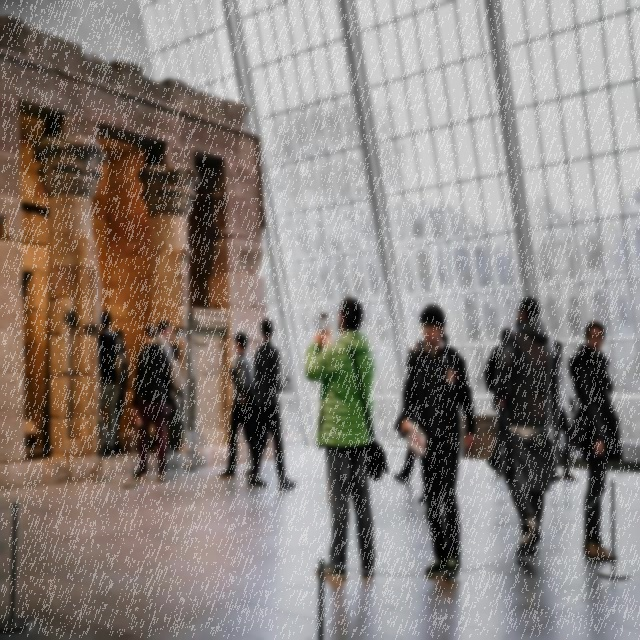pessoa: (302, 292, 388, 582), (400, 303, 477, 581), (490, 293, 560, 561), (564, 321, 624, 561), (398, 314, 454, 511), (247, 318, 297, 492), (129, 322, 174, 484), (218, 331, 260, 478), (483, 326, 514, 477), (149, 320, 182, 454), (550, 340, 580, 482), (98, 310, 120, 456), (110, 330, 130, 453), (322, 314, 326, 332)
